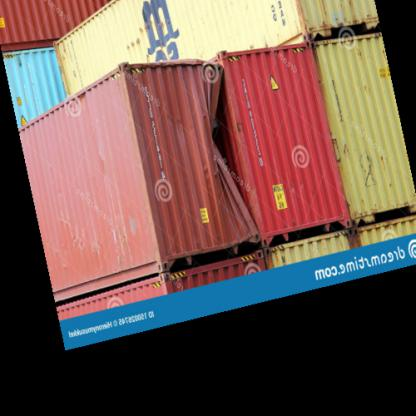Damage: (198, 75, 262, 207)
